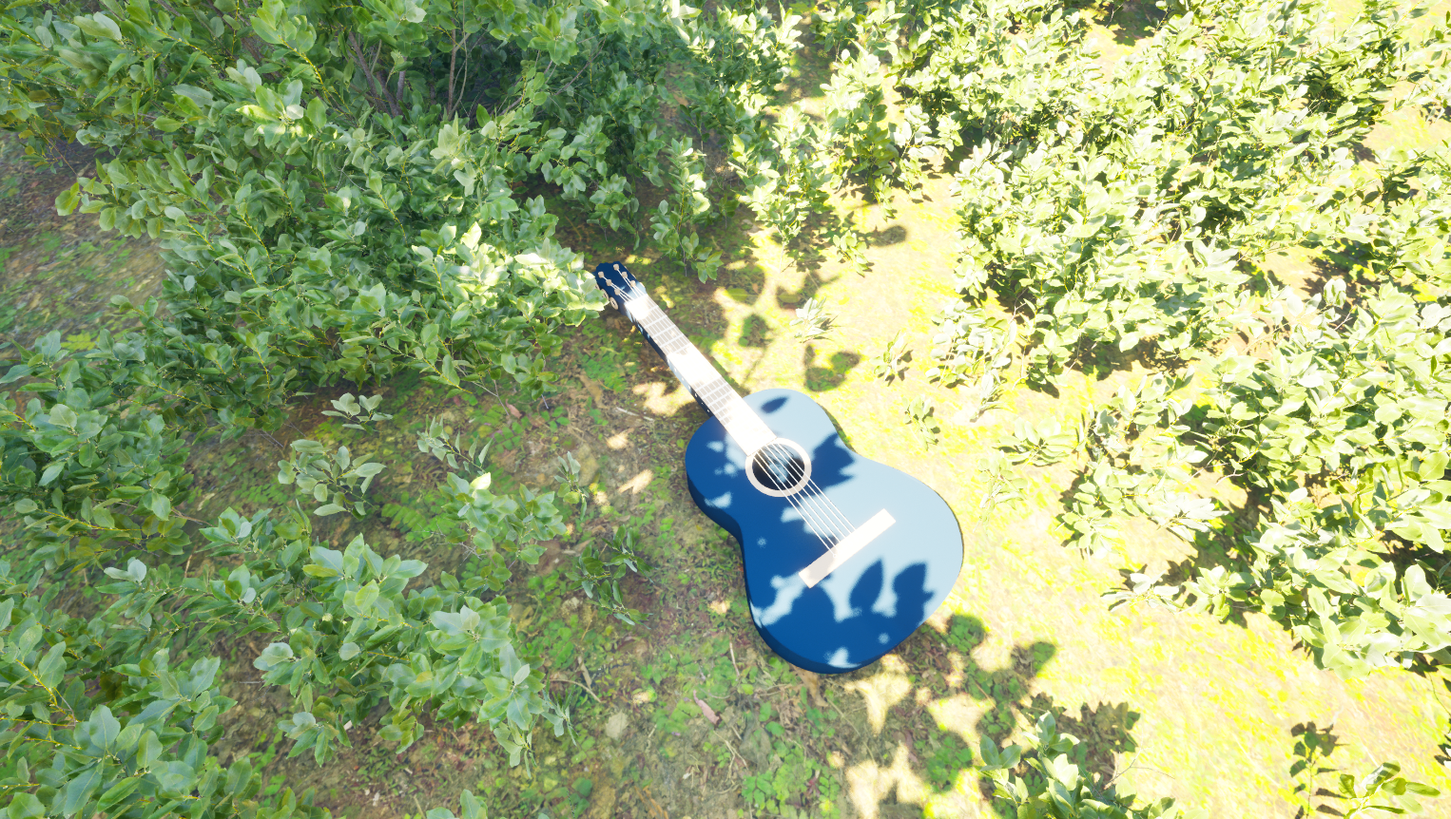Guitar: (518, 222, 1001, 715)
